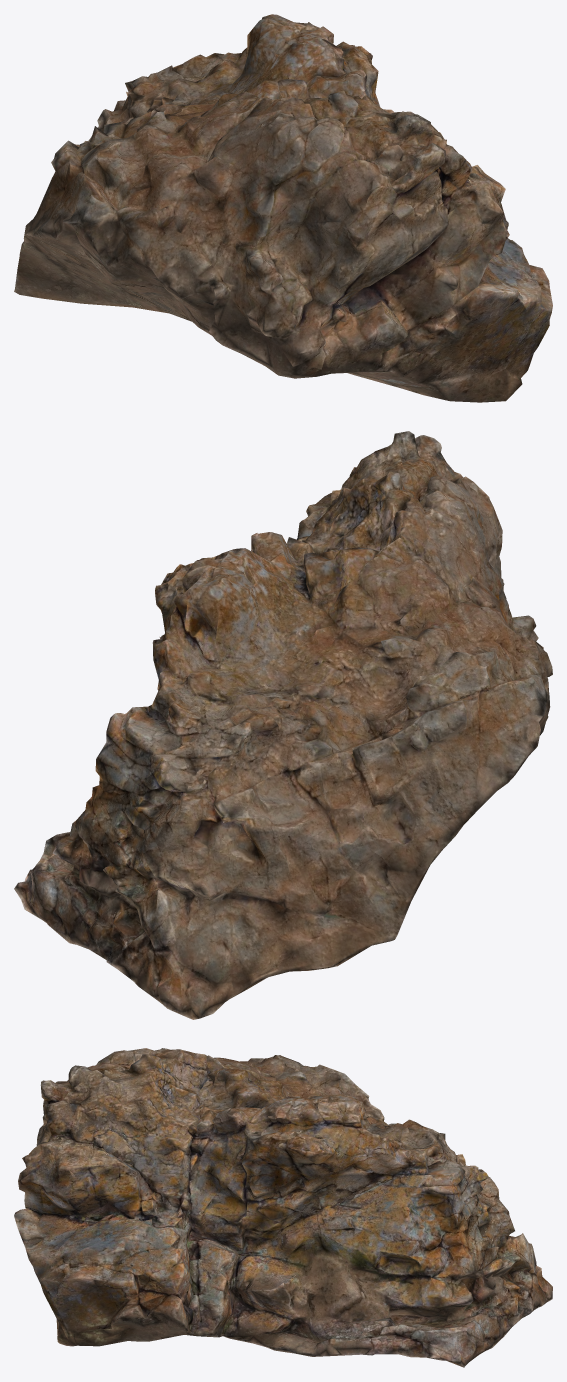
File: boulder_01.glb
3 views of the same model, one above another, from view 1: azimuth 30°, elevation 25°; view 2: azimuth 150°, elevation 25°; view 3: azimuth 270°, elevation 25° (orthographic). The views are drawn at different scales.
Size of the model in its own units: 1.27 by 1 by 1.83.
Materials: 1 (1 with a texture image).
